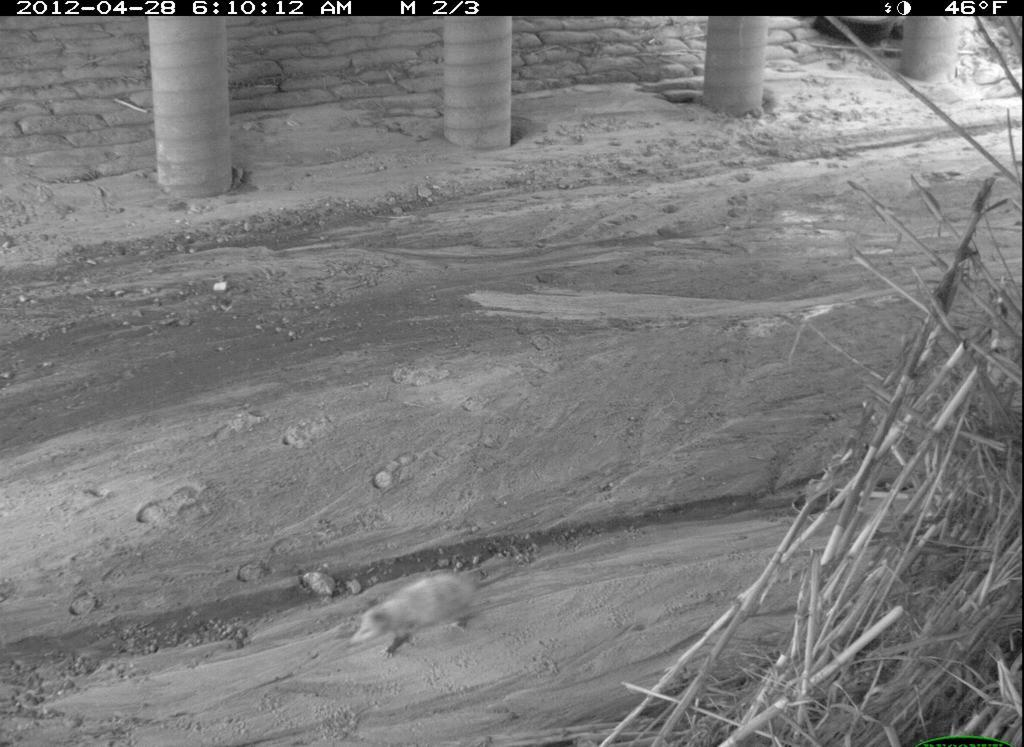opossum: (340, 557, 511, 694)
